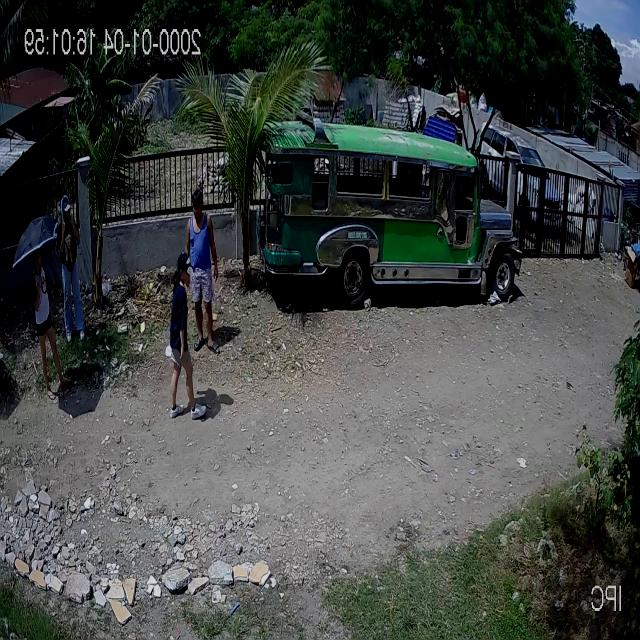standing: (184, 188, 222, 356), (36, 239, 72, 400), (54, 194, 86, 344)
walking: (168, 252, 202, 424)
